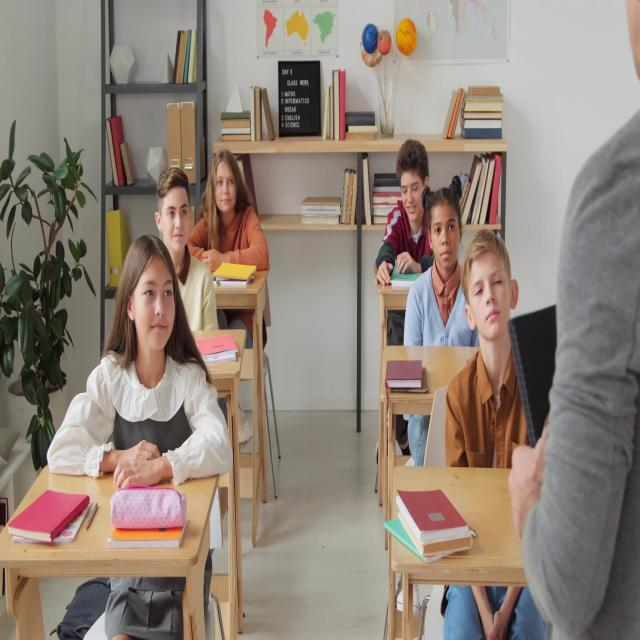listening: (45, 242, 237, 640), (194, 150, 273, 442), (443, 236, 533, 470), (403, 182, 475, 354), (157, 168, 220, 334)
reading: (375, 141, 434, 290)
